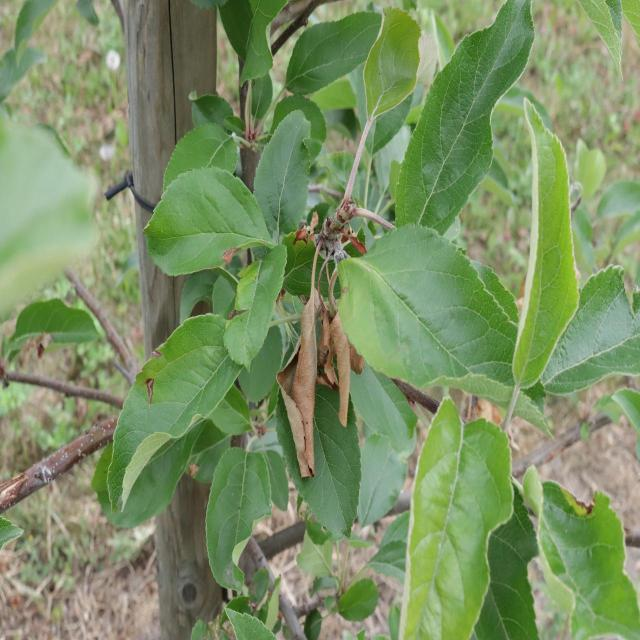-FireBlight-: (281, 220, 358, 462)
